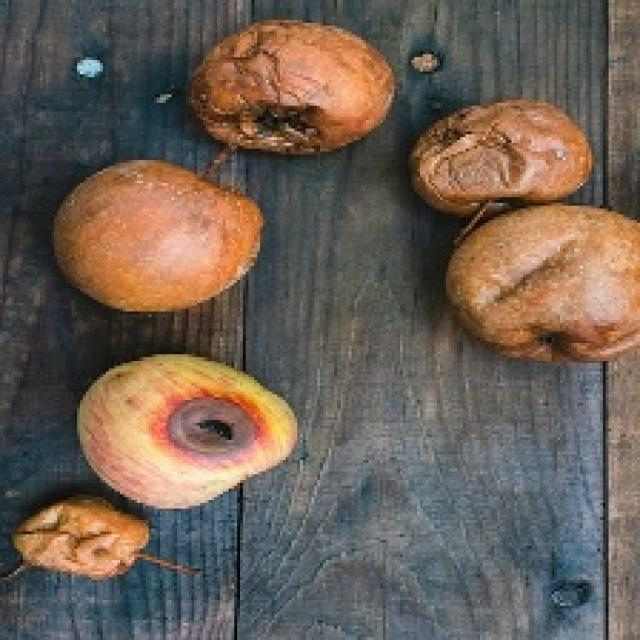rotten_apple: (81, 358, 296, 506), (450, 206, 640, 362), (58, 165, 264, 308), (192, 25, 396, 148), (419, 101, 591, 206), (16, 500, 148, 578)
